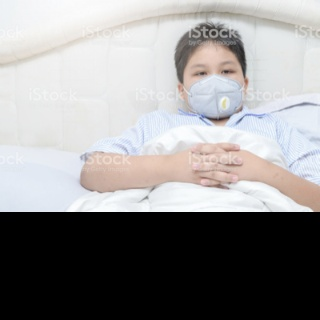with_mask: (184, 56, 244, 120)
